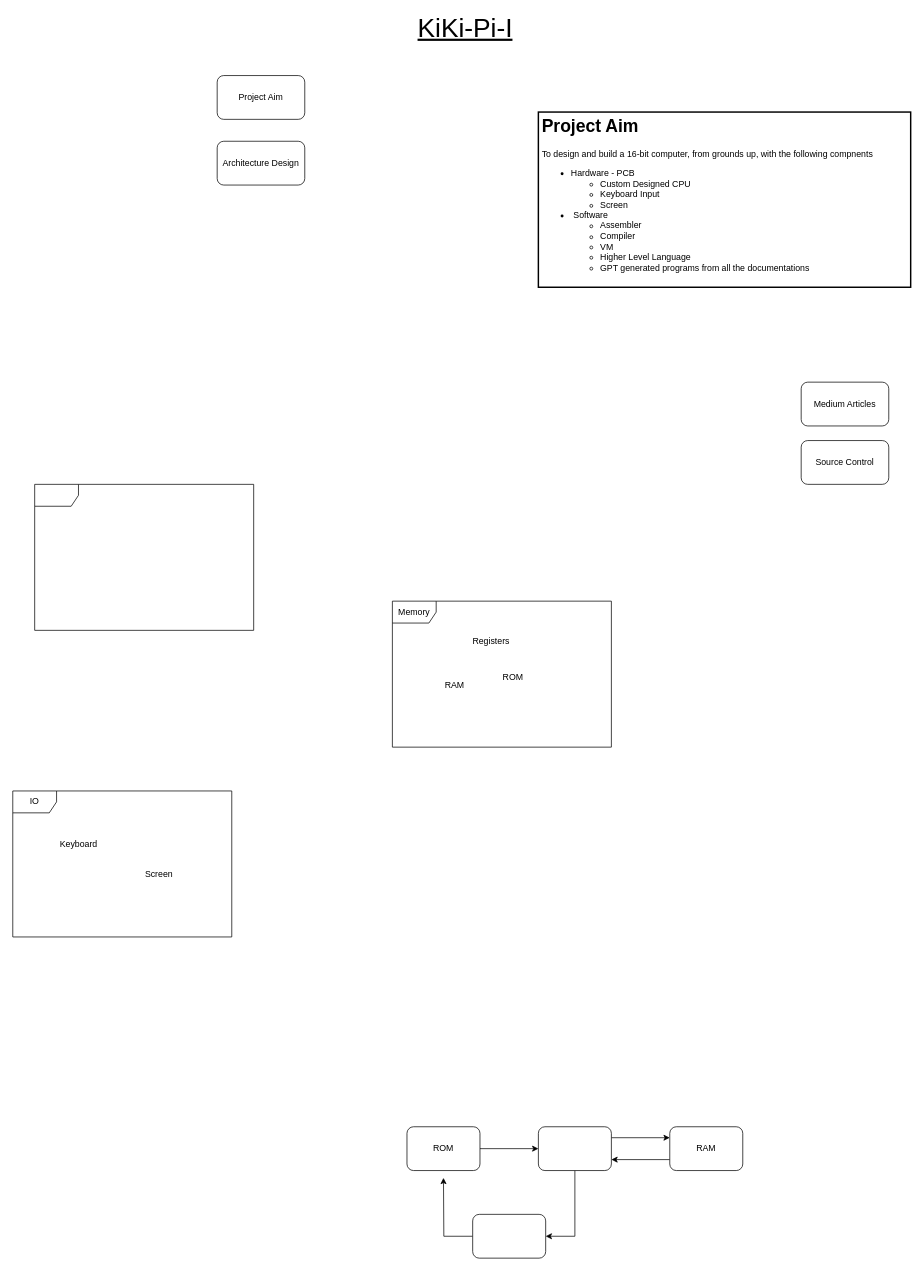
Image size: 924x1271. Some labels were removed from this diagram. The centre of each missing label's shape, as x and y in pixels:
"ALU" goes at point 144,557.
"CPU" goes at point 574,1148.
"Program Counter" goes at point 509,1236.
